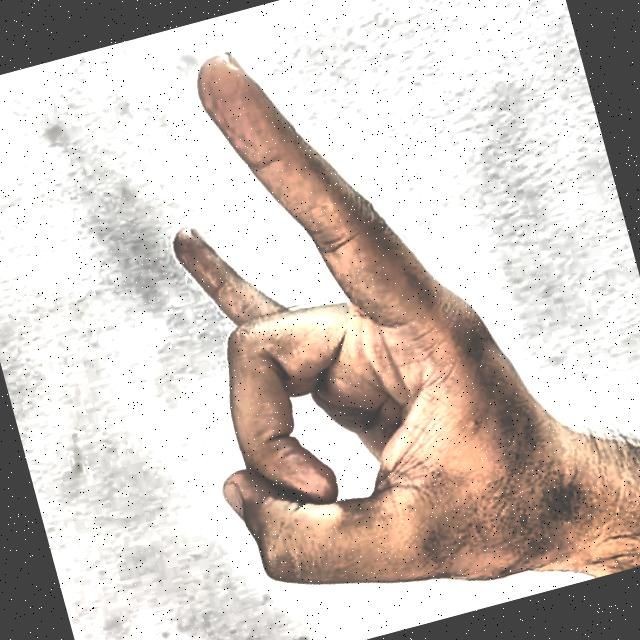Cha: (15, 0, 611, 640)
